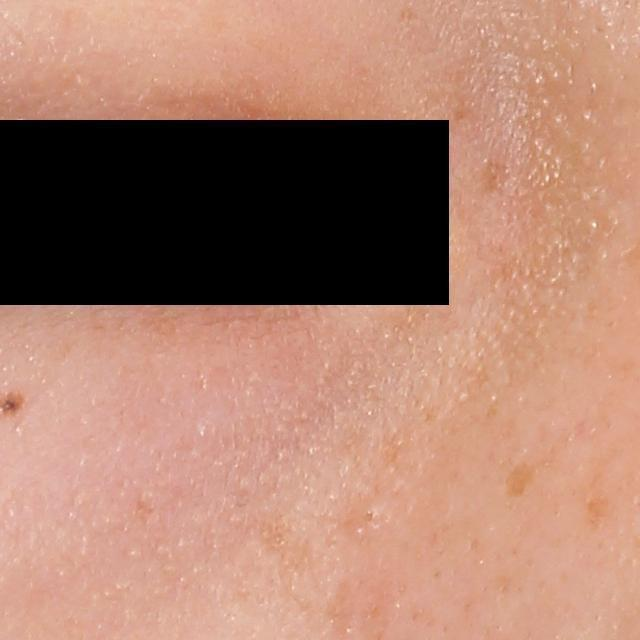comedo: (359, 502, 383, 527)
melasma: (577, 471, 619, 535), (495, 458, 544, 511), (484, 161, 514, 199)
